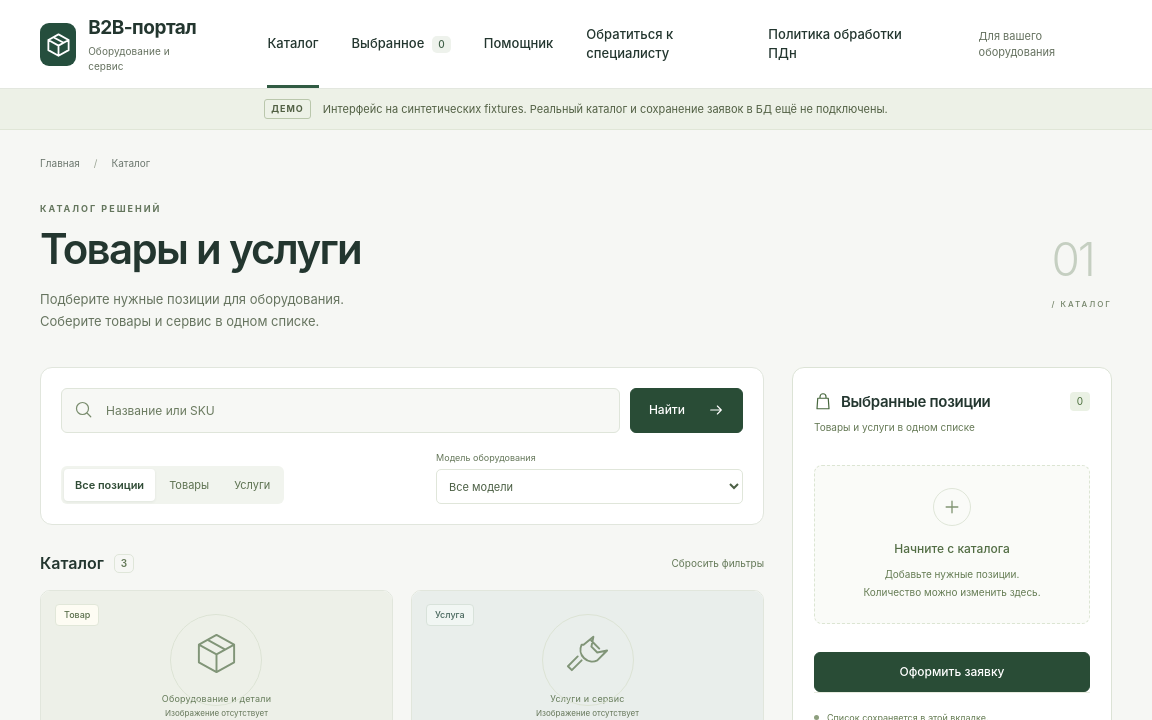
Test: catalog UI on approved fixtures › filters models by confirmed only, shows unknown in detail without inventing incompatibility
Select "Демо-модель · DEMO-MODEL" in the dropdown at (590, 487), box [436,469,743,504]
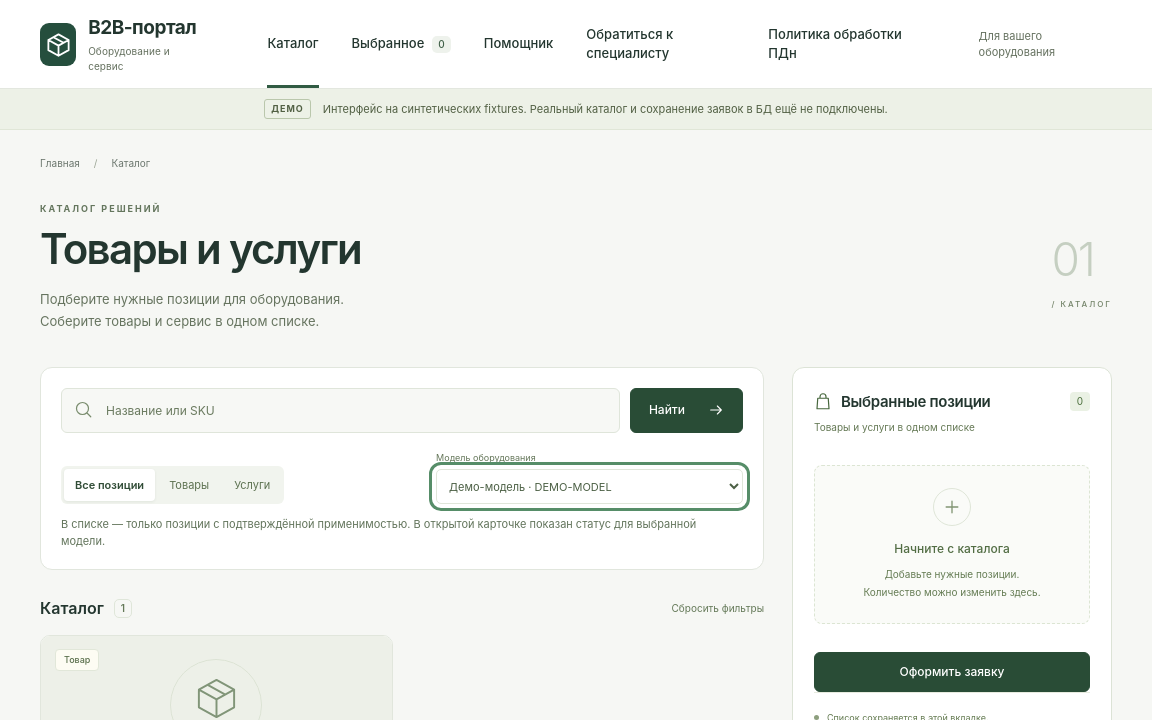
Select "Все модели" in the dropdown at (590, 487), box [436,469,743,504]
(page scrolled)
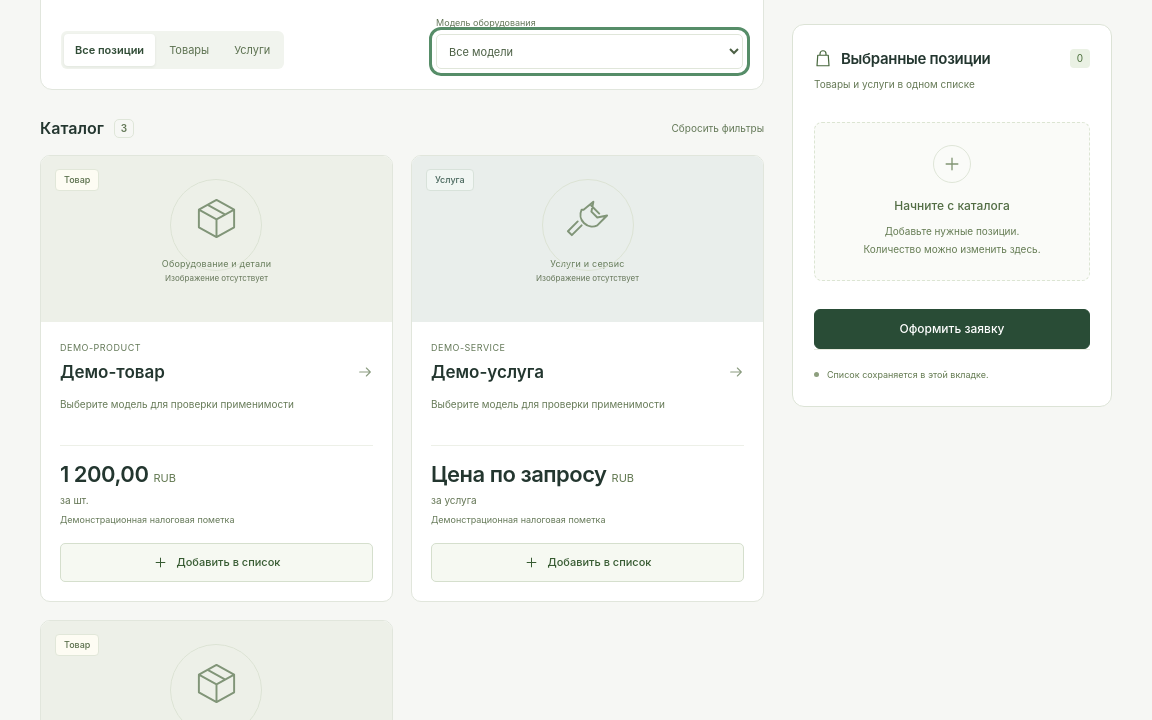
Click the button "Демо-услуга".
click(487, 372)  # box [431,360,744,385]
(page scrolled)
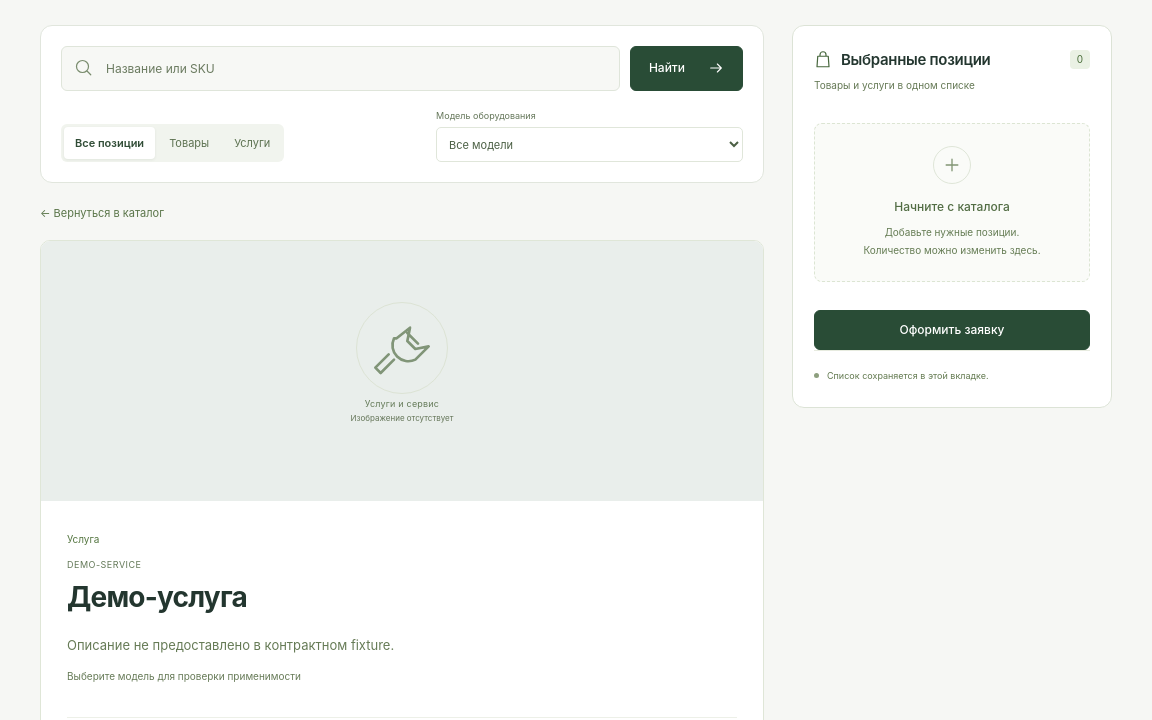
Check: the text "Описание не предоставлено в контрактном fixture." is shown, box [67,637,394,653]
Select "Демо-модель · DEMO-MODEL" in the dropdown at (590, 145), box [436,127,743,162]
(page scrolled)
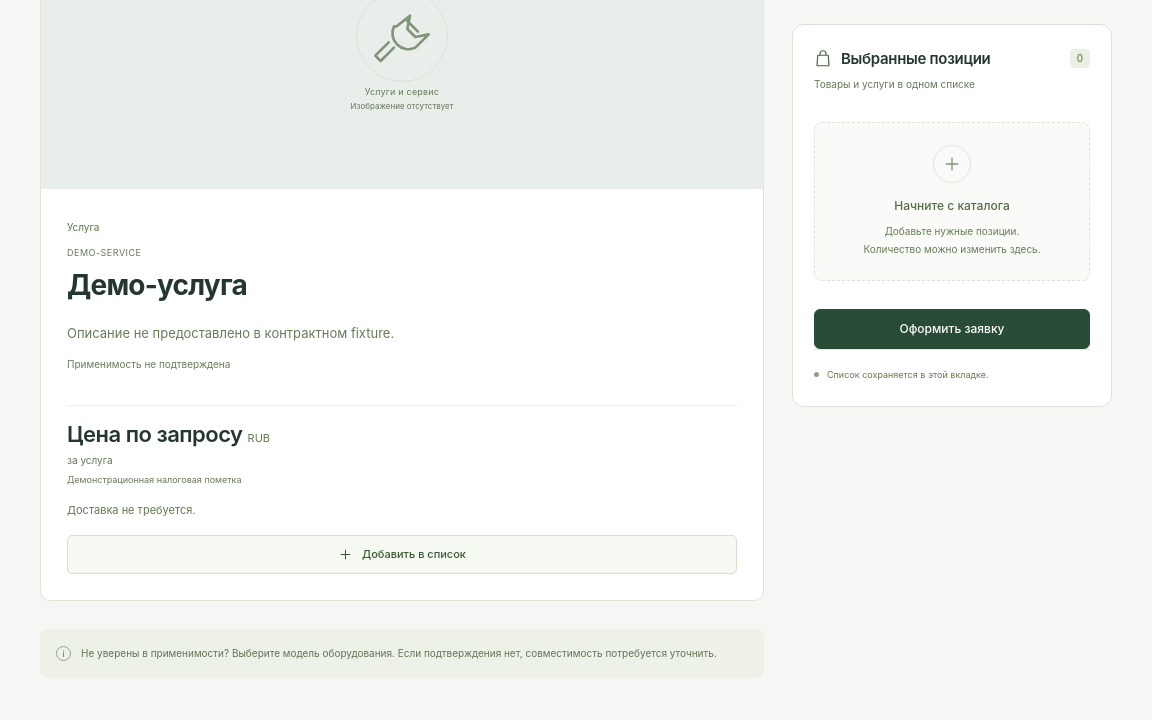
Check: the text "Применимость не подтверждена" is shown, box [67,358,230,370]
